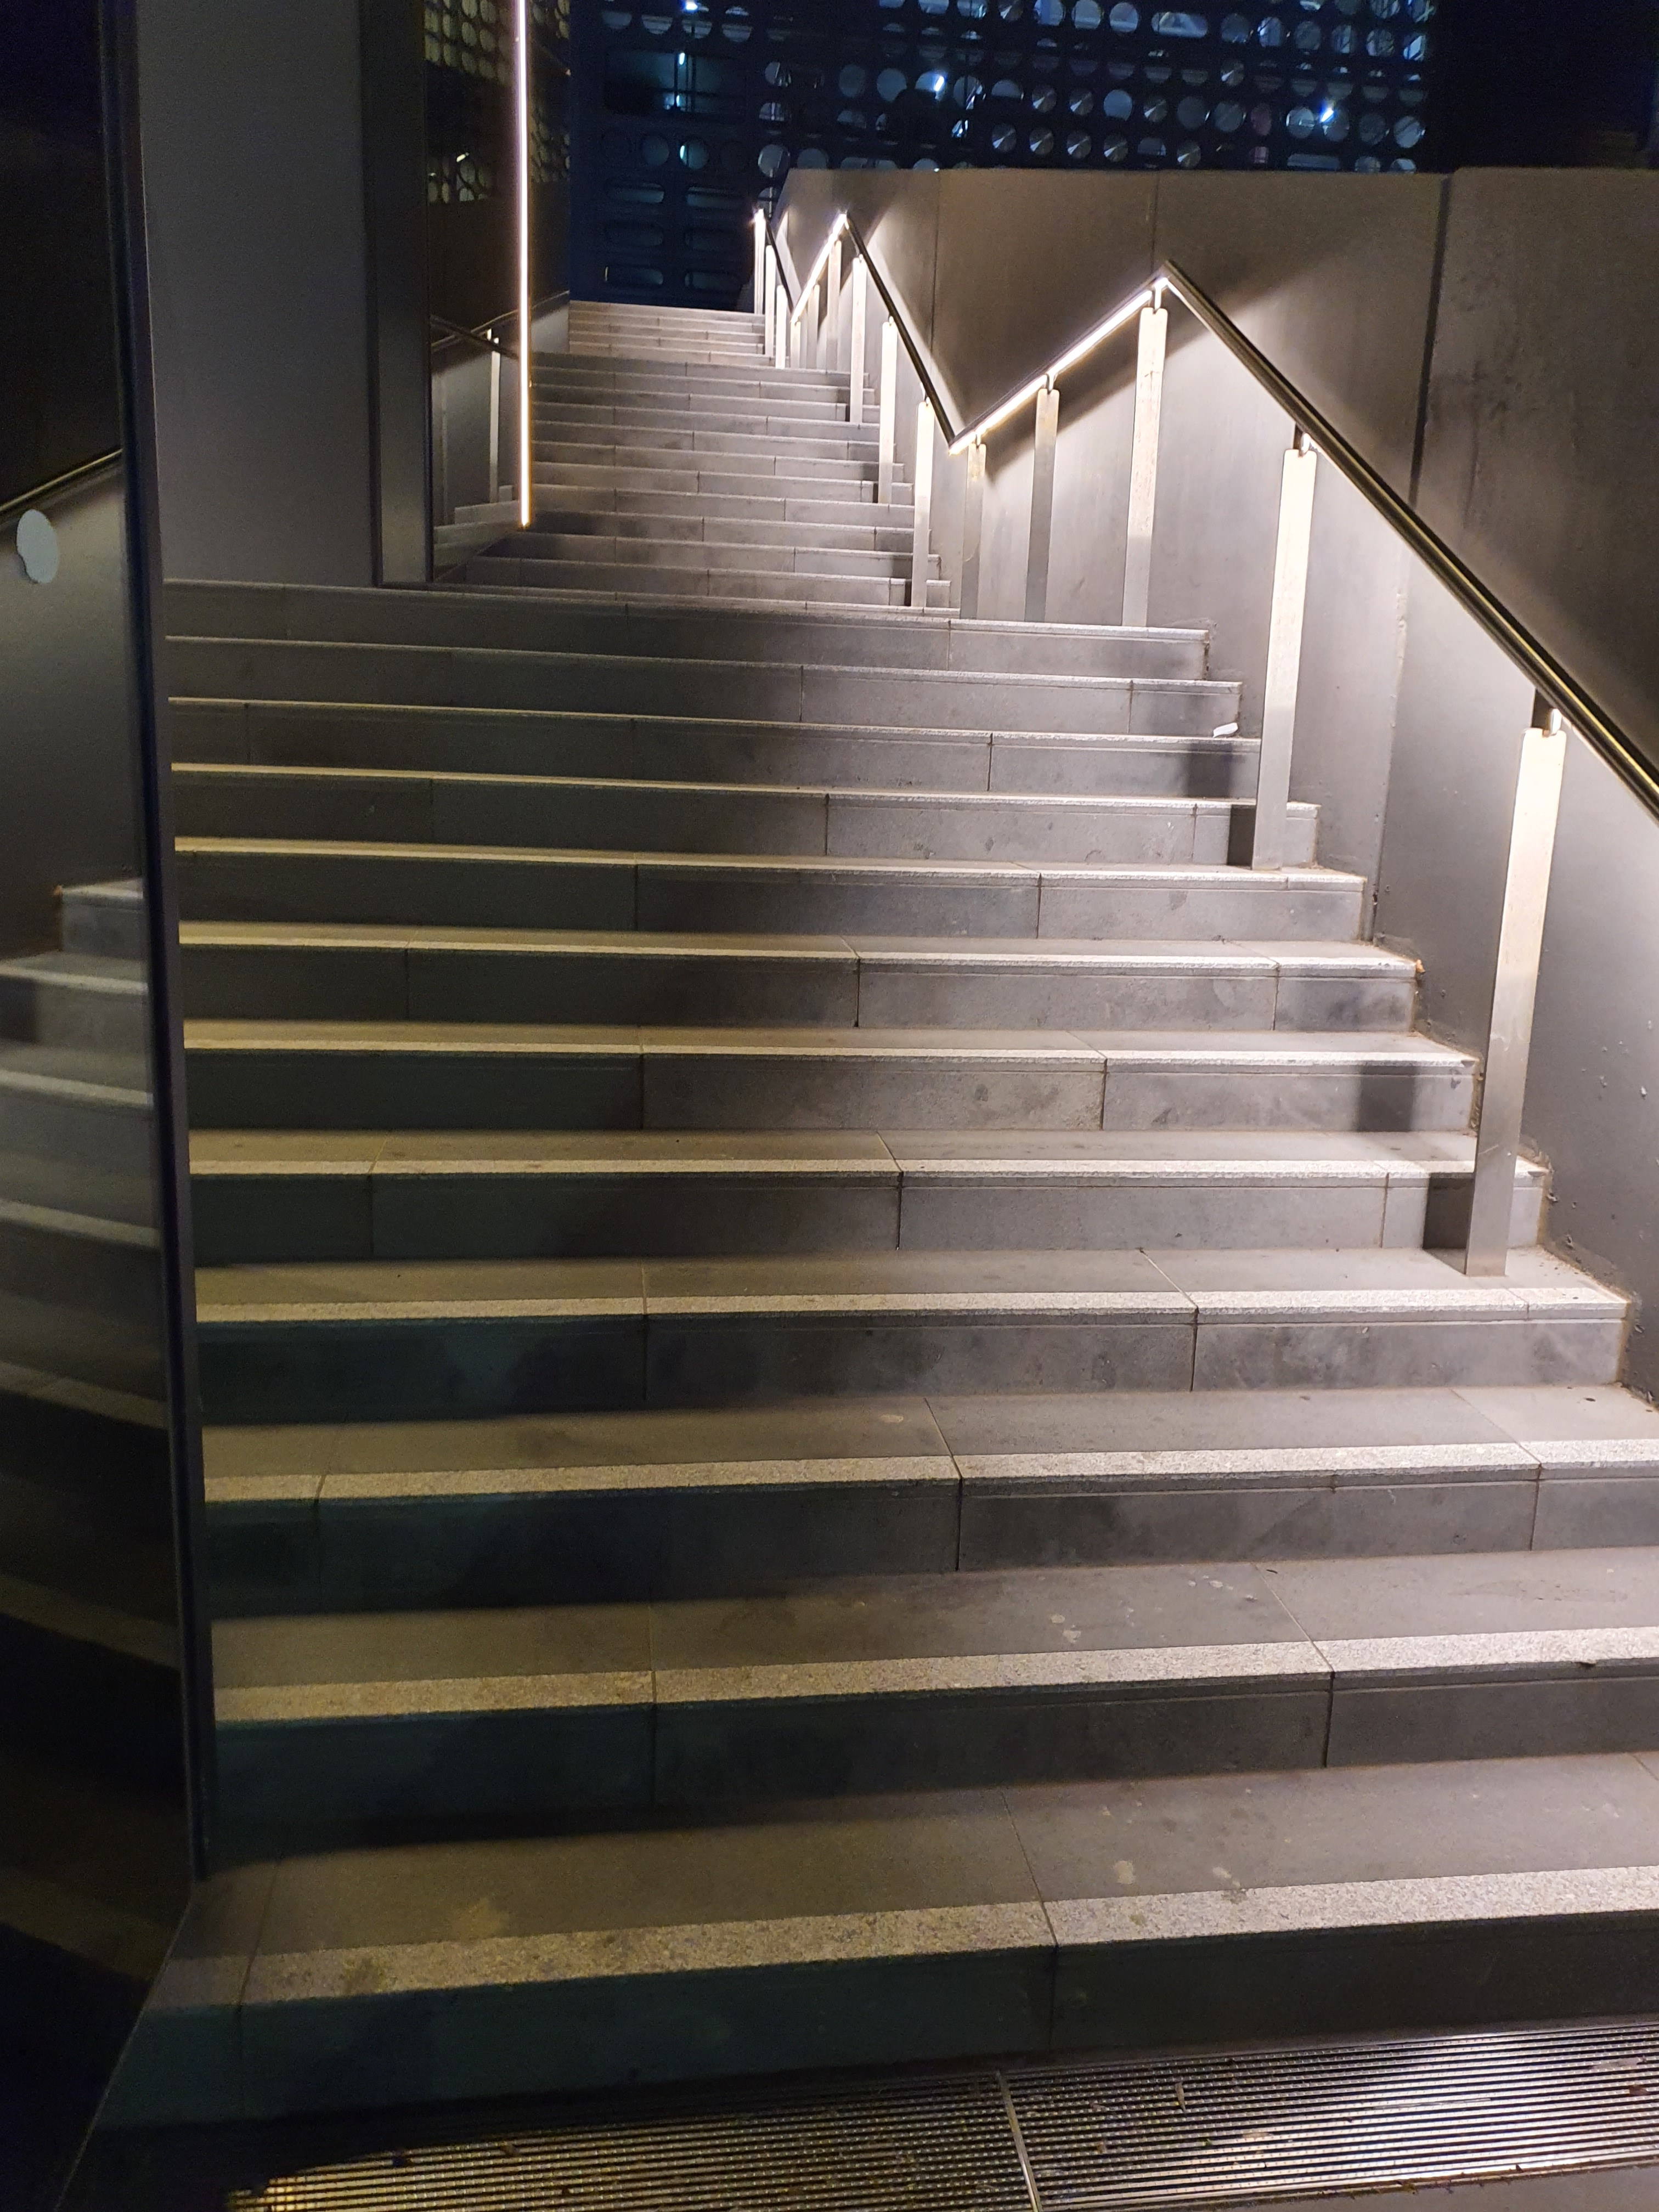upstairs: (235, 1172, 1565, 2165)
